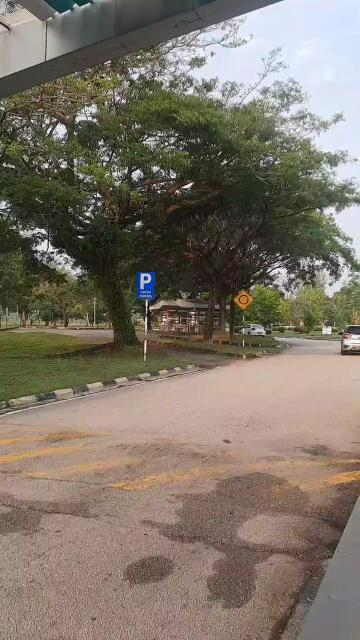car: (331, 321, 360, 357)
